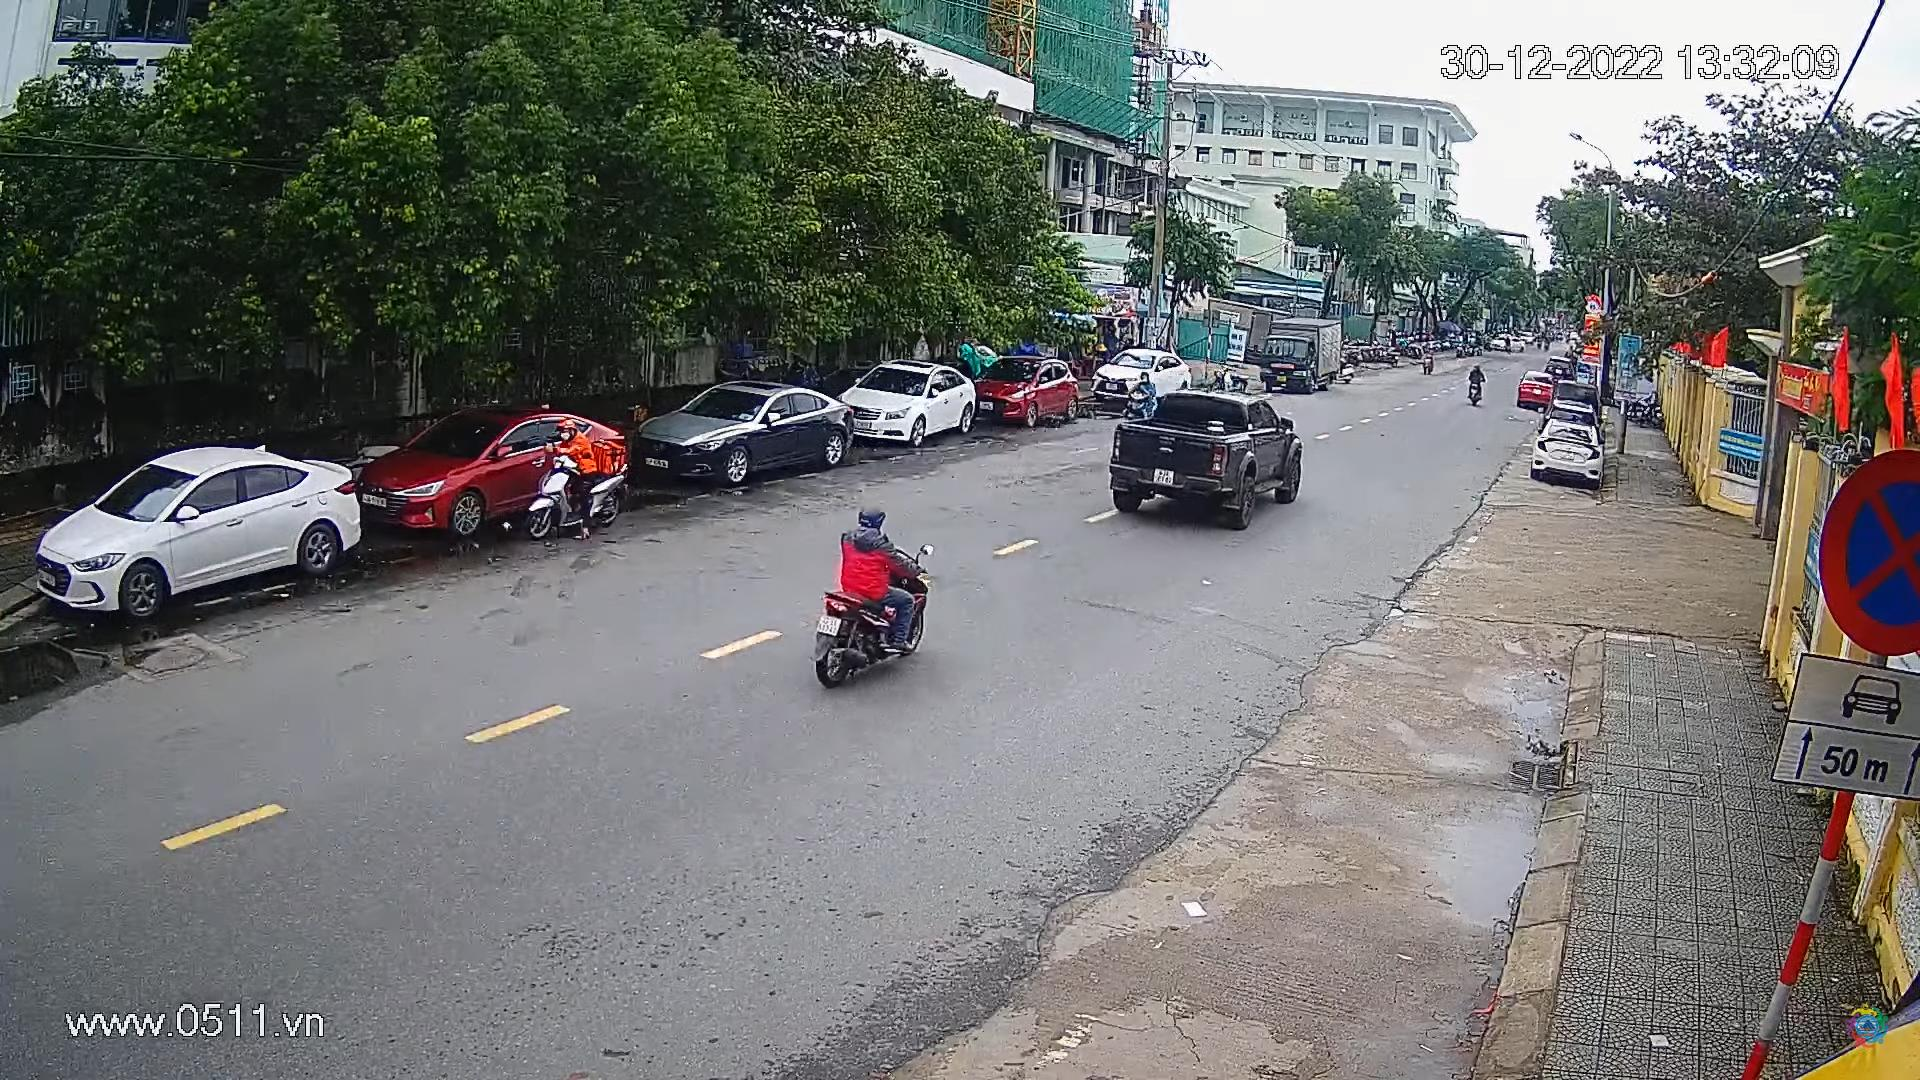car: (30, 444, 365, 622), (356, 402, 632, 541), (1105, 376, 1335, 538), (632, 367, 856, 489), (837, 356, 976, 454), (967, 353, 1085, 435), (1093, 340, 1193, 407), (1527, 414, 1609, 493), (1516, 369, 1553, 415), (1540, 351, 1576, 382)
motorcycle: (803, 501, 945, 695), (518, 414, 622, 543), (1465, 357, 1489, 407), (1420, 344, 1436, 376)
truck: (1254, 313, 1348, 392)
